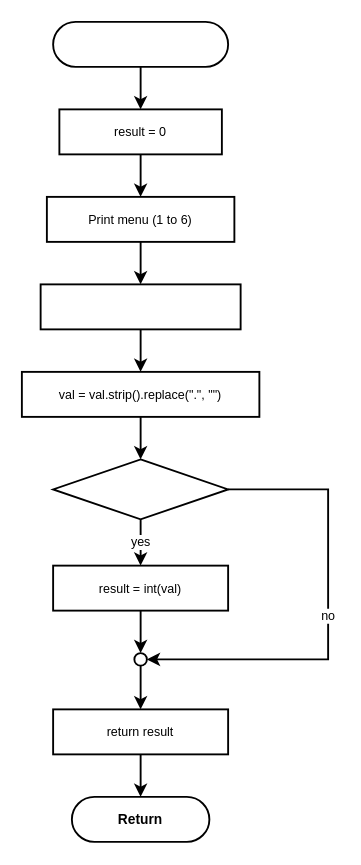
The diagram is 361 pixels wide and 865 high, and some of its shapes have lost their labels. The shapes that lost their labels are listed below. From the top down, each one's box as (x1, y1, x2, y2) in pixels, then its label:
(52, 20, 228, 67): readKey()
(39, 283, 241, 330): val = input("choice")
(52, 458, 228, 520): val.isdigit()
